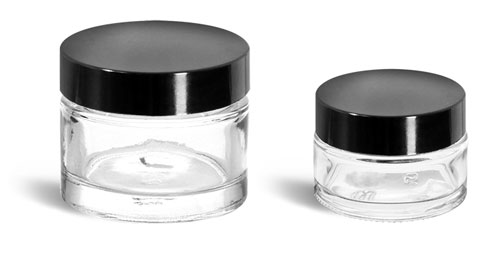glass_bottle: (56, 16, 254, 225), (306, 63, 470, 222)
